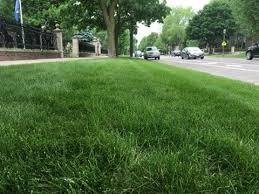grass: (1, 77, 257, 190), (1, 59, 198, 74)
tree: (105, 16, 116, 57)
